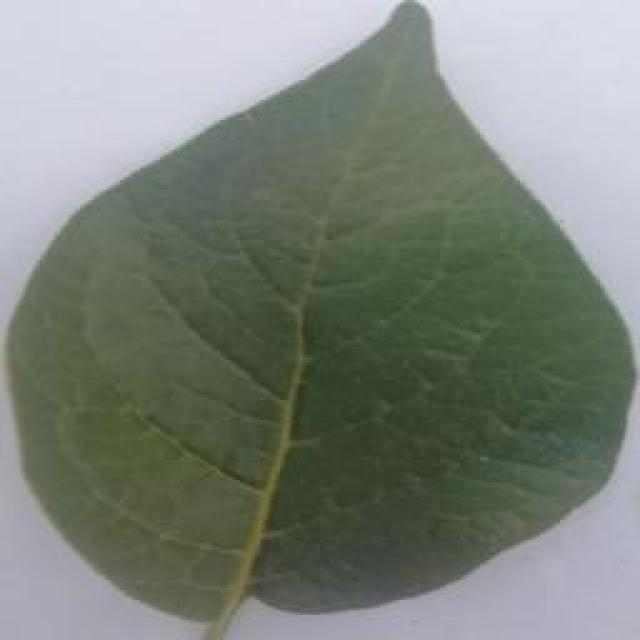Potato_Healthy: (8, 2, 624, 629)
